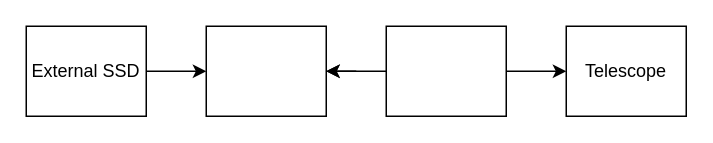
The diagram is 713 pixels wide and 143 high, and some of its shapes have lost their labels. Each missing label, with the box of its shape:
Laptop: (205, 25, 326, 116)
Machine Vision Camera: (385, 25, 506, 116)
